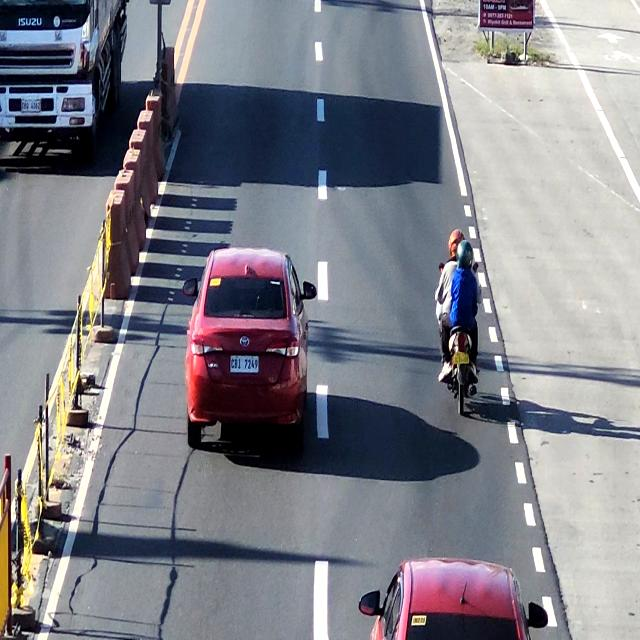Car: (186, 245, 313, 450), (354, 554, 545, 640)
License-Plate: (229, 354, 259, 379)
Motorcycle: (442, 224, 480, 425)
